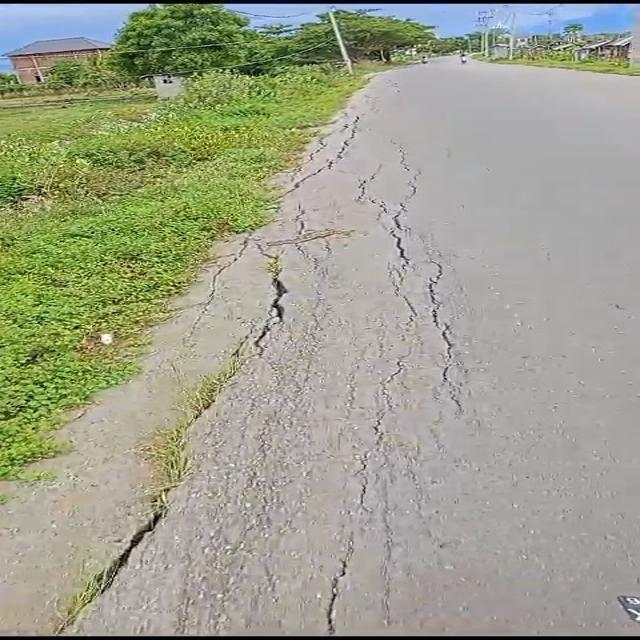Memanjang: (0, 218, 333, 640), (386, 158, 428, 313)
Pinggir: (99, 99, 373, 404)
